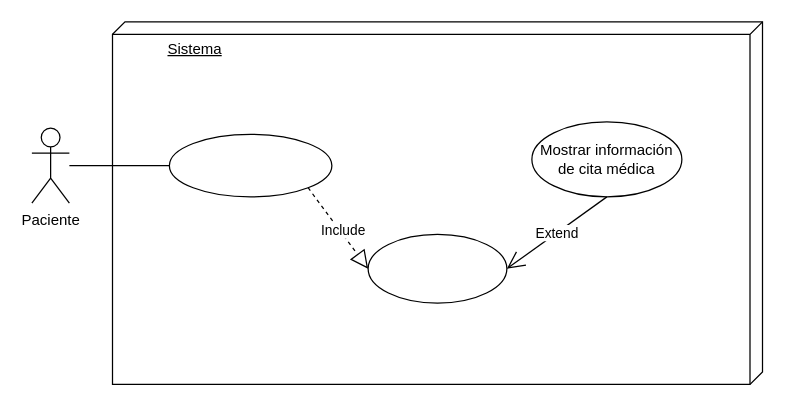
Some shapes in this 785 by 406 pixel diagram are drawn without their labels. The shapes that lost their labels are listed below. From the top down, each one's centre as x and y in pixels, then its label:
(x=250, y=165): Ingresar datos de cita médica
(x=437, y=268): Seleccionar cita médica
